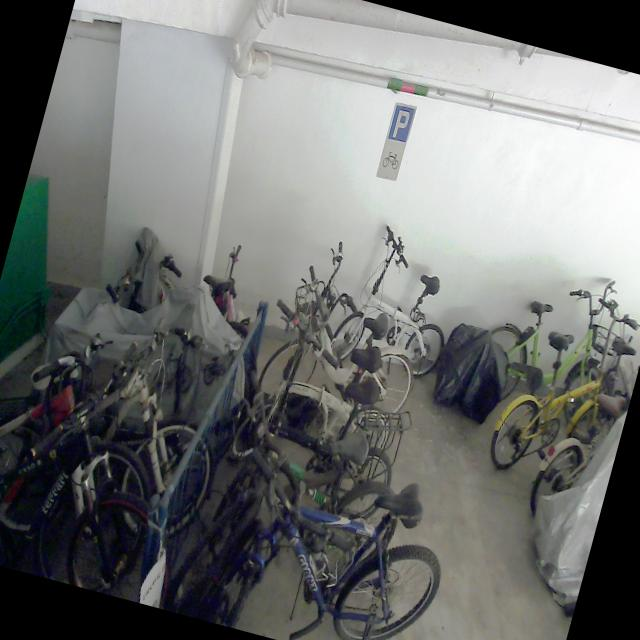bike: (0, 283, 245, 558), (161, 425, 462, 640), (0, 303, 194, 594), (206, 379, 424, 587), (256, 228, 442, 427), (230, 296, 416, 492), (484, 275, 640, 495), (466, 249, 640, 446), (328, 218, 472, 388)
